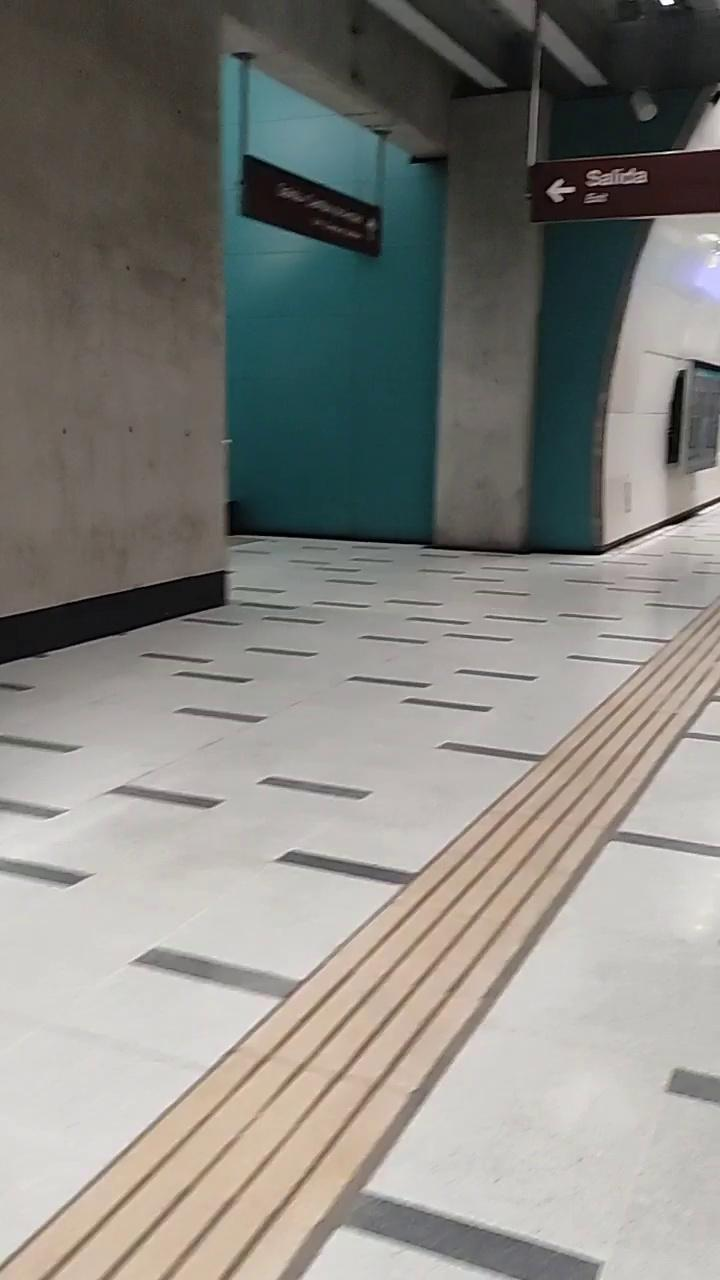left arrow: (542, 172, 581, 216)
